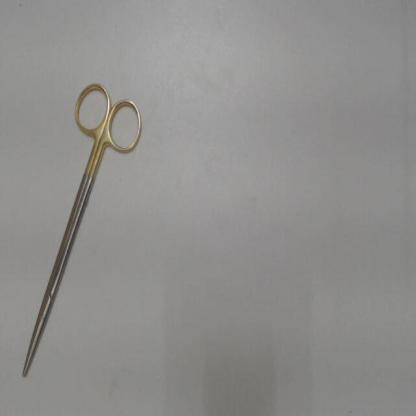7 Metzenbaum Scissors: (20, 76, 146, 382)
